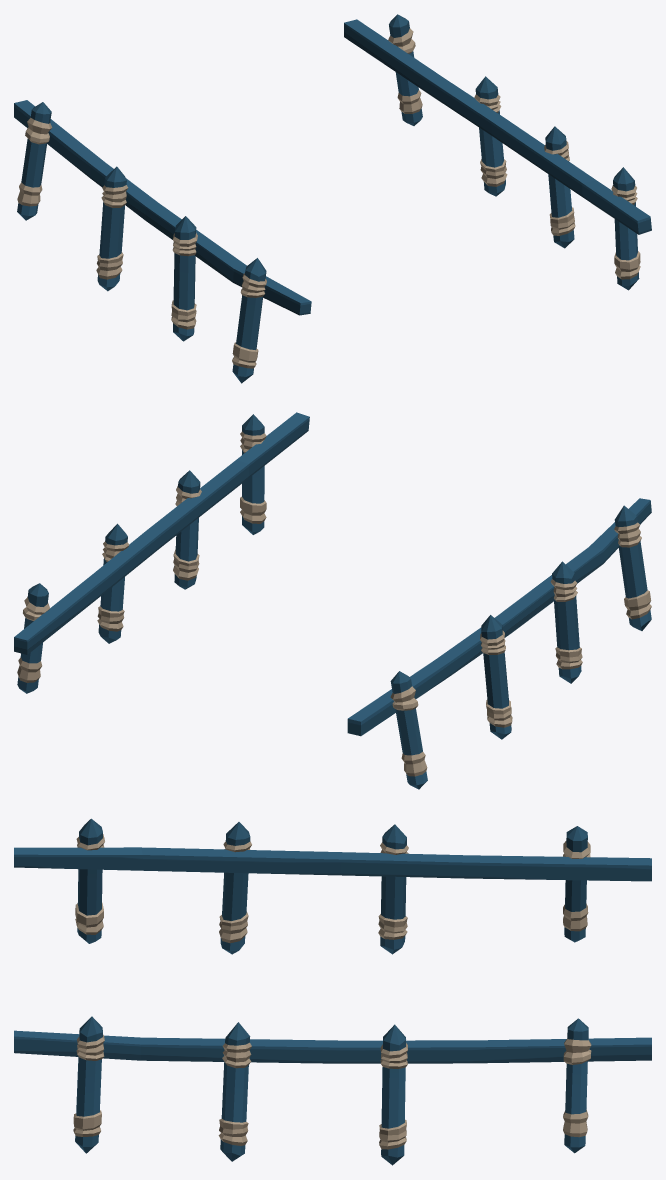
The model's file is SM_Veh_Ship_S_Middle_02.fbx.
3 renders of one model, top to bottom at view 1: azimuth 30°, elevation 25°; view 2: azimuth 150°, elevation 25°; view 3: azimuth 270°, elevation 25°, orthographic. The views are drawn at different scales.
Visible parts, largest first — view 1: SM_Veh_Ship_S_Middle_02; view 2: SM_Veh_Ship_S_Middle_02; view 3: SM_Veh_Ship_S_Middle_02.
Part boxes in pixels (left/top/right/bottom): SM_Veh_Ship_S_Middle_02: left=14, top=14, right=651, bottom=383; SM_Veh_Ship_S_Middle_02: left=14, top=412, right=651, bottom=789; SM_Veh_Ship_S_Middle_02: left=14, top=818, right=651, bottom=1165.
Bounding box in the file's own units: 581 × 177 × 706.
Materials: 1 (1 with a texture image).
